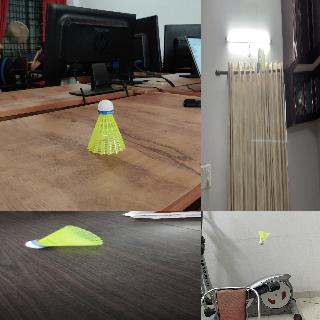shuttlecock: (88, 100, 124, 154), (24, 225, 102, 248), (256, 47, 264, 72), (259, 230, 269, 244)
